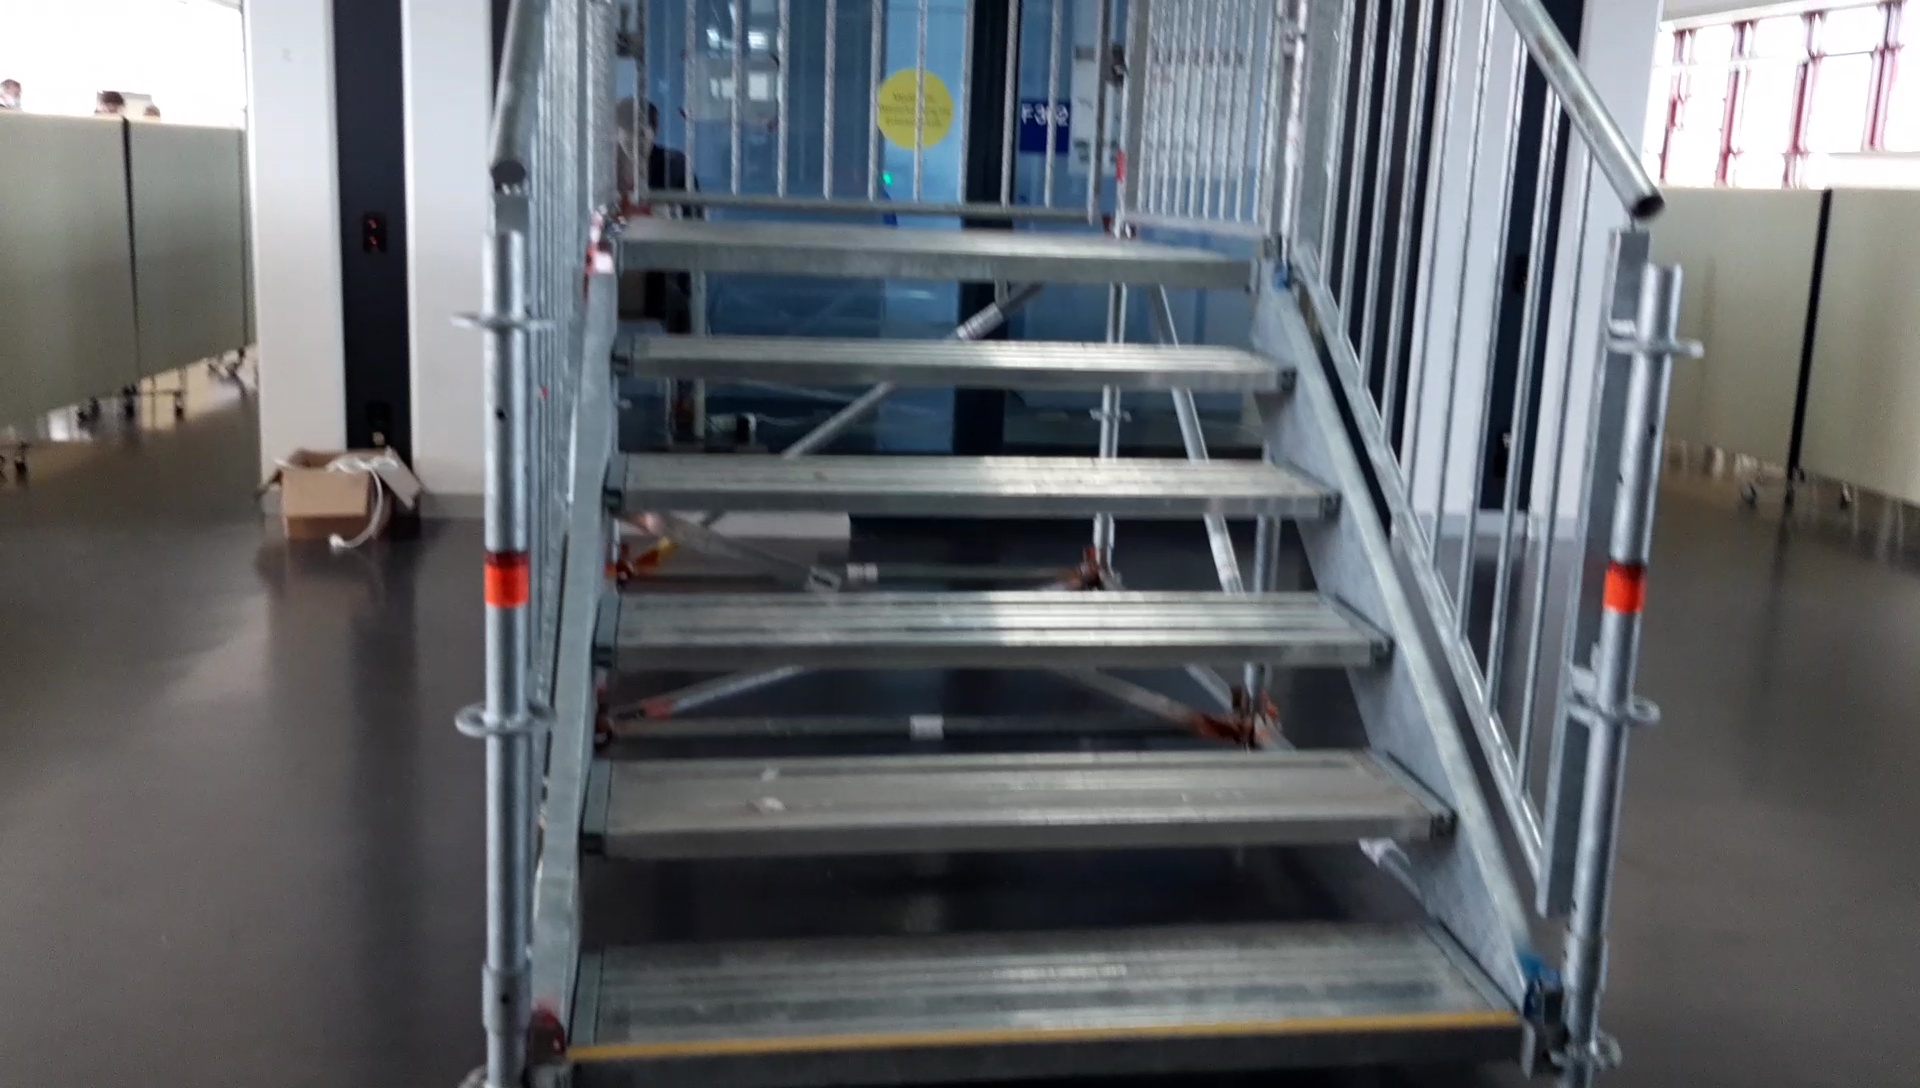edge: (580, 1021, 1526, 1079), (583, 812, 1456, 853), (622, 239, 1258, 287), (611, 353, 1298, 390), (592, 638, 1393, 666), (605, 489, 1342, 516)
stairs: (452, 8, 1705, 1088)
steps: (570, 229, 1540, 1083)
